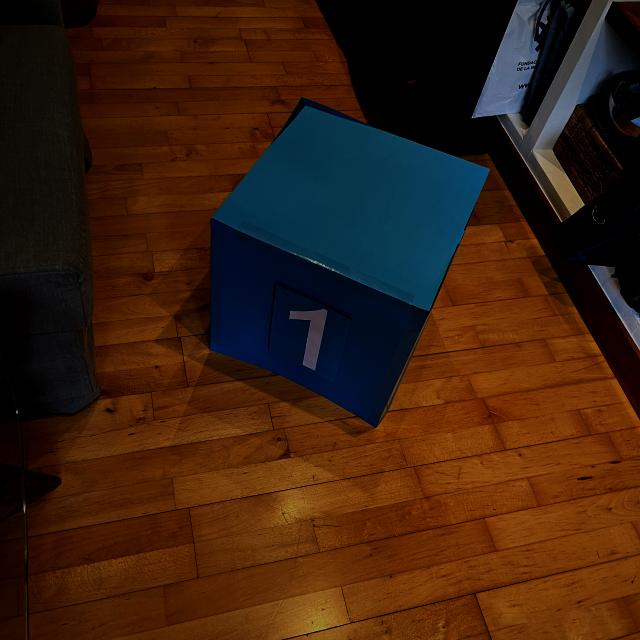box: (202, 94, 492, 430)
